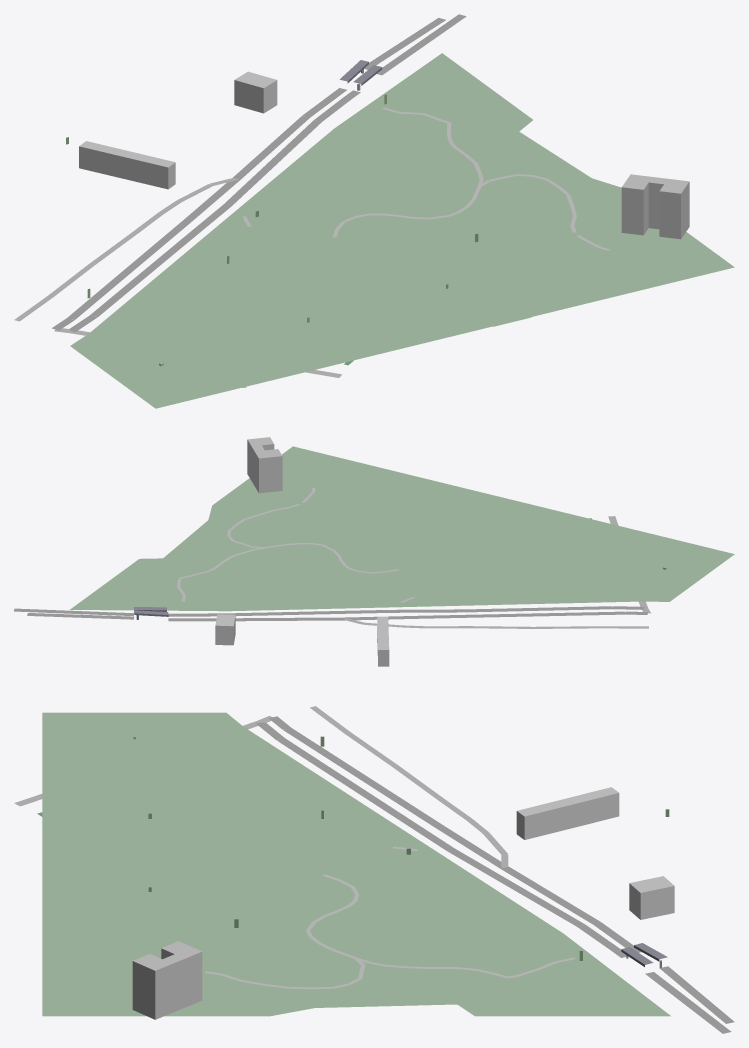
The picture shows the model from 3 angles, top to bottom: view 1: azimuth 30°, elevation 25°; view 2: azimuth 150°, elevation 25°; view 3: azimuth 270°, elevation 25°; orthographic projection. The views are drawn at different scales.
Bounding box in the file's own units: 554 × 38.79 × 502.
